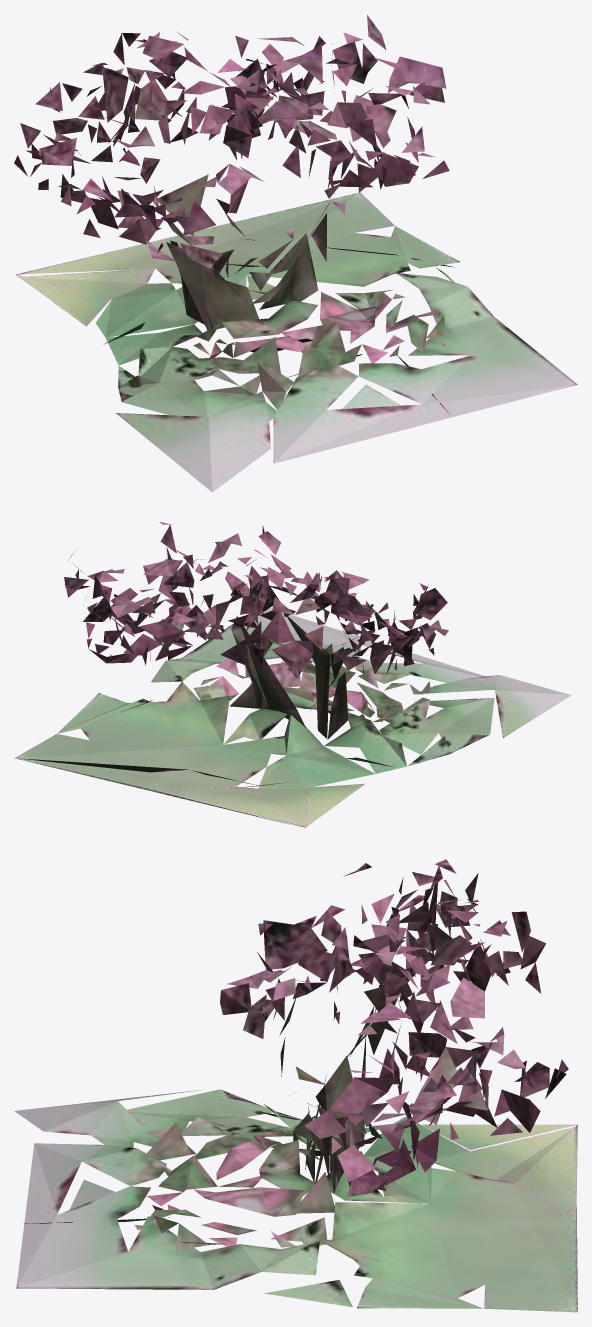
File: cherry_tree.glb
3 views of the same model, one above another, from view 1: azimuth 30°, elevation 25°; view 2: azimuth 150°, elevation 25°; view 3: azimuth 270°, elevation 25° (orthographic). The views are drawn at different scales.
Visible parts, largest first — view 1: geometry_0; view 2: geometry_0; view 3: geometry_0.
Boxes of the visible parts, x1,y1,x2,y2 form: geometry_0: (14,15,577,492); geometry_0: (14,521,571,827); geometry_0: (14,859,577,1312).
Size of the model in its own units: 0.8728 by 0.5308 by 0.9103.
1 material, 1 textured.
